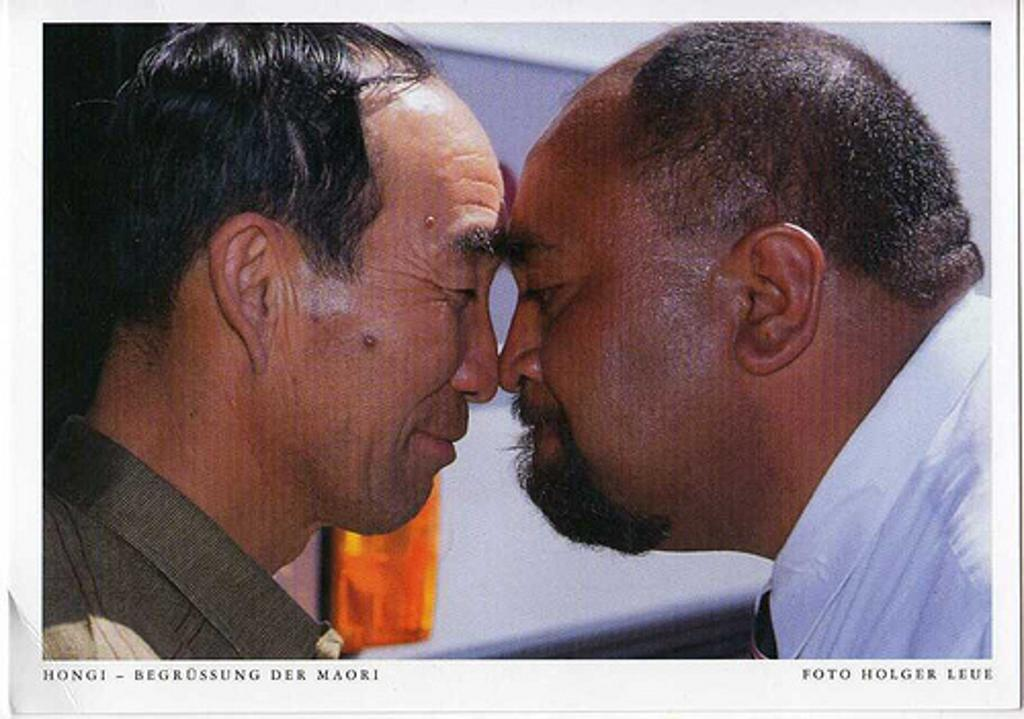face: (500, 72, 736, 542), (286, 72, 508, 536)
